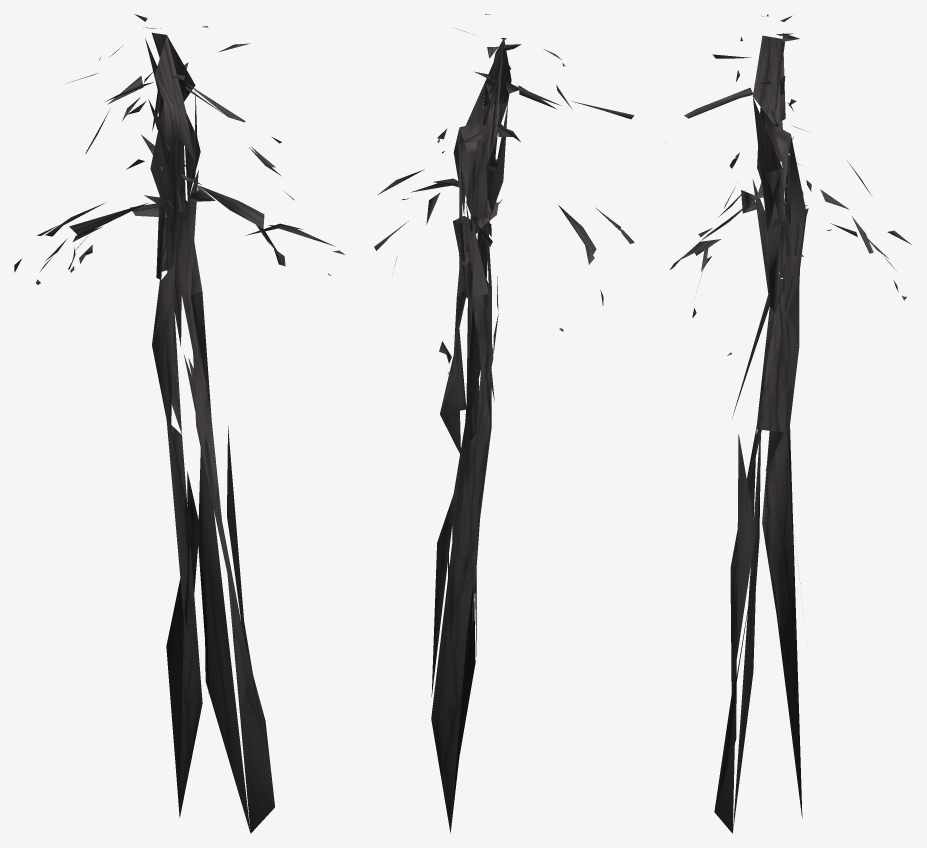
The model's file is kering-2-lod.glb.
3 views of the same model, side by side, from view 1: azimuth 30°, elevation 25°; view 2: azimuth 150°, elevation 25°; view 3: azimuth 270°, elevation 25° (orthographic). The views are drawn at different scales.
Visible parts, largest first — view 1: DeadTree_3; view 2: DeadTree_3; view 3: DeadTree_3.
Part boxes in pixels (x1,y1,x2,y2): DeadTree_3: (14,14,344,833); DeadTree_3: (374,14,634,833); DeadTree_3: (670,14,911,833).
Size of the model in its own units: 3.12 by 8.92 by 2.57.
1 material, 1 textured.
